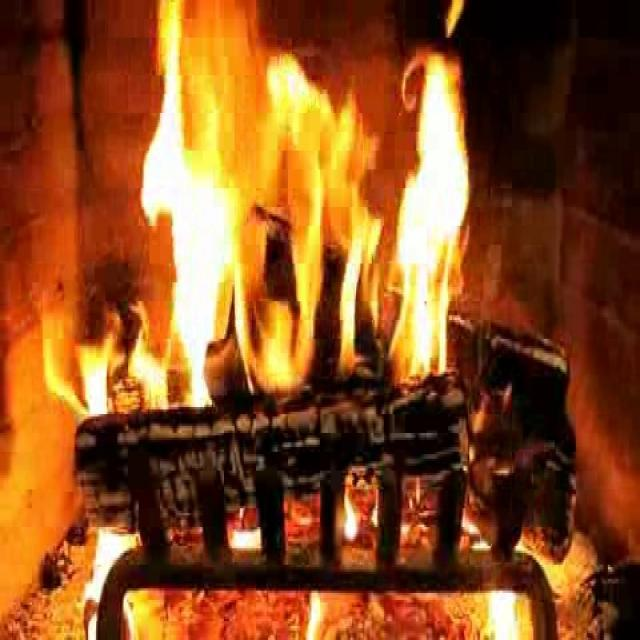Fire: (138, 1, 490, 480)
